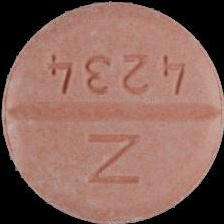35356-902: (0, 0, 224, 224)
